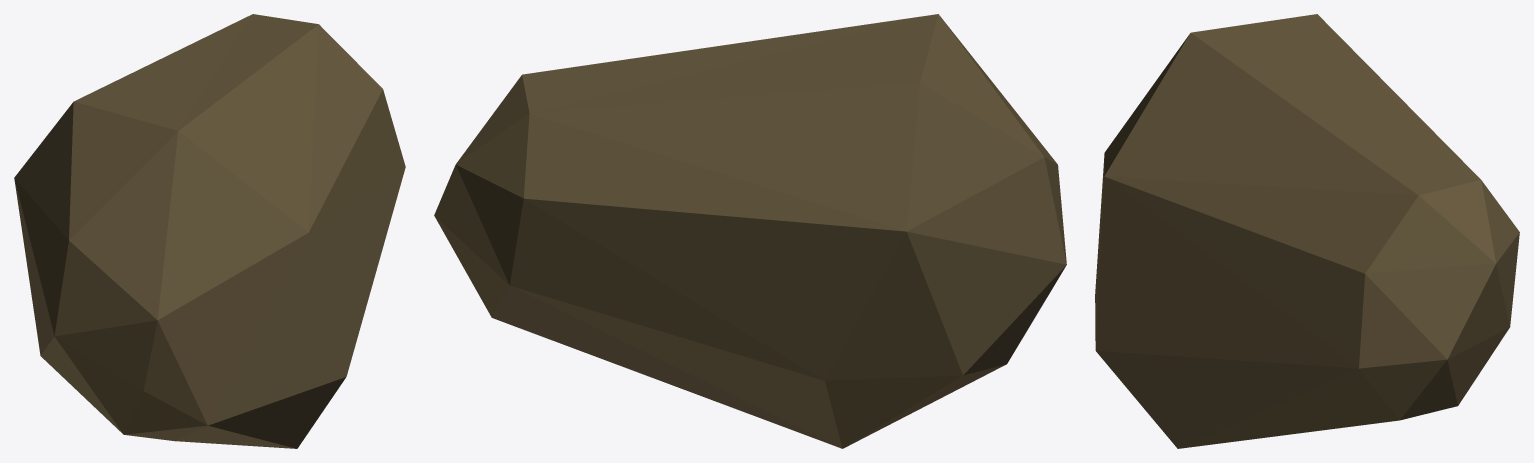
The model's file is ant-trochanter-front-right.dae.
3 renders of one model, left to right at view 1: azimuth 30°, elevation 25°; view 2: azimuth 150°, elevation 25°; view 3: azimuth 270°, elevation 25°, orthographic. The views are drawn at different scales.
Parts seen in each view (by area): view 1: ant-femur-trochanter-front-right; view 2: ant-femur-trochanter-front-right; view 3: ant-femur-trochanter-front-right.
Boxes of the visible parts, x1,y1,x2,y2 form: ant-femur-trochanter-front-right: (14,14,405,448); ant-femur-trochanter-front-right: (434,14,1066,448); ant-femur-trochanter-front-right: (1095,14,1519,448).
Bounding box in the file's own units: 1.38 × 1.13 × 1.08.
